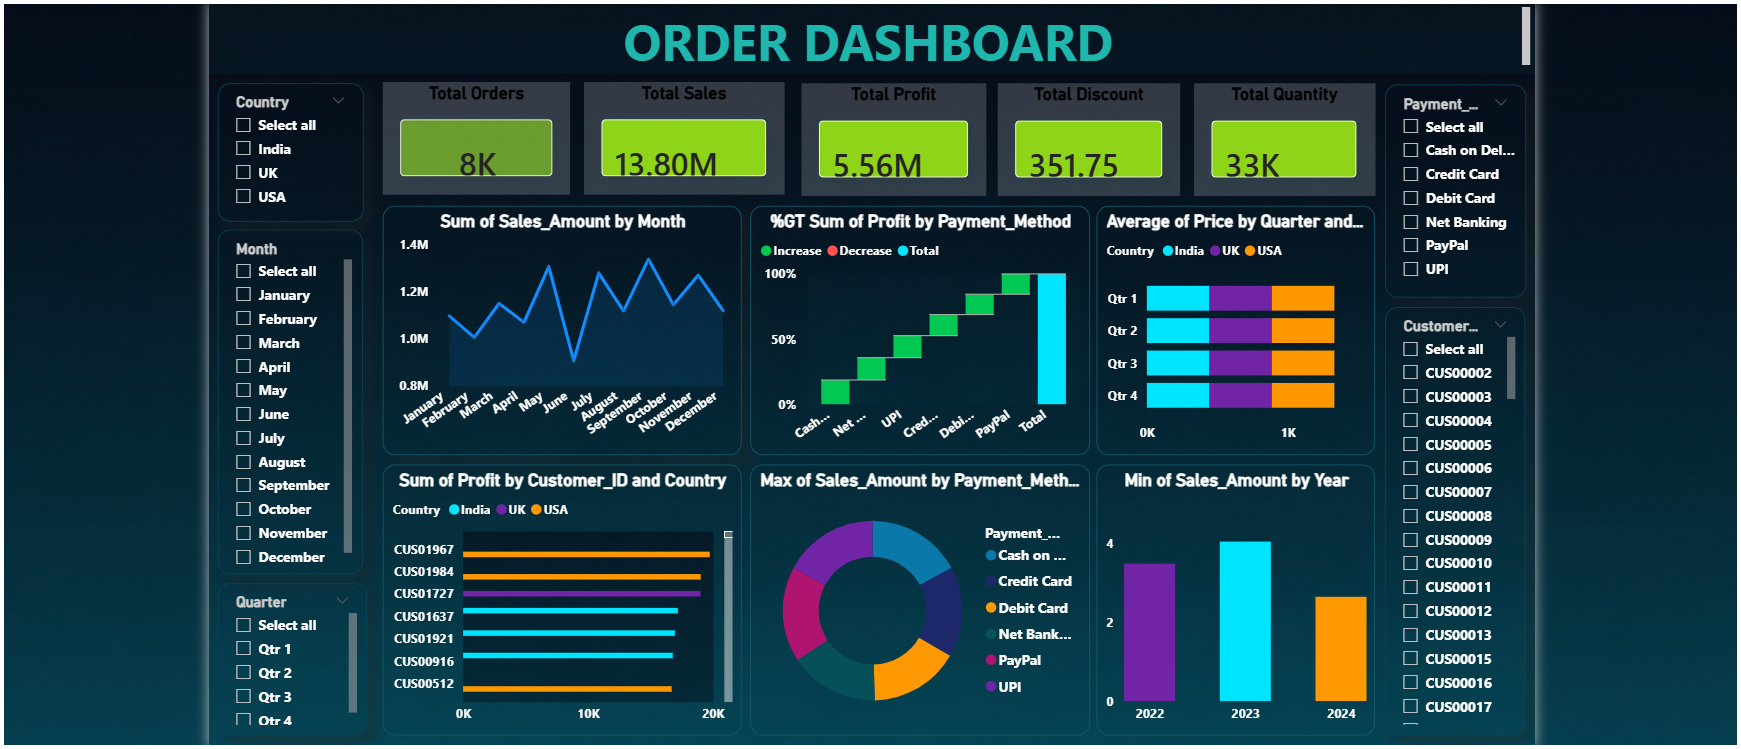

What the dashboard file says about the page in this screenshot:
{"tool":"powerbi","page":{"name":"Order Dashboard","canvas":[1280,720],"ordinal":1},"visuals":[{"type":"cardVisual","title":"Total Orders","fields":{"Data":["Count(Orders.Order_ID)"]},"box":[167.8,77.8,181.1,108.9],"z":0},{"type":"textbox","box":[0,0,1280.3,69.7],"z":1000},{"type":"cardVisual","title":"Total Sales","fields":{"Data":["Sum(Order_Details.Sales_Amount)"]},"box":[362.2,77.8,193.3,108.9],"z":2000},{"type":"cardVisual","title":"Total Profit","fields":{"Data":["Sum(Order_Details.Profit)"]},"box":[572.2,77.9,178.1,109.1],"z":3000},{"type":"cardVisual","title":"Total Discount","fields":{"Data":["Sum(Order_Details.Discount)"]},"box":[761.8,78.3,176.1,108.8],"z":4000},{"type":"cardVisual","title":"Total Quantity","fields":{"Data":["Sum(Order_Details.Quantity)"]},"box":[950.1,78.3,174.9,108.8],"z":5000},{"type":"lineChart","fields":{"Category":["Orders.Order_Date.Variation.Date Hierarchy.Month"],"Y":["Sum(Order_Details.Sales_Amount)"]},"box":[167.4,196.5,346.5,240.7],"z":6000},{"type":"waterfallChart","fields":{"Category":["Orders.Payment_Method"],"Y":["Sum(Order_Details.Profit)"]},"box":[522.1,196.9,327.7,240.9],"z":7000},{"type":"clusteredBarChart","fields":{"Category":["Orders.Customer_ID"],"Y":["Sum(Order_Details.Profit)"],"Series":["Customers.Country"]},"box":[167.5,446.3,346.1,261.7],"z":8000},{"type":"donutChart","fields":{"Y":["Max(Order_Details.Sales_Amount)"],"Series":["Orders.Payment_Method"]},"box":[522.1,446.3,327.7,261.7],"z":9000},{"type":"lineStackedColumnComboChart","fields":{"Category":["Orders.Order_Date.Variation.Date Hierarchy.Year"],"Y":["Min(Order_Details.Sales_Amount)"]},"box":[856,446.3,269,261.7],"z":10000},{"type":"barChart","fields":{"Category":["Orders.Order_Date.Variation.Date Hierarchy.Quarter"],"Y":["Avg(Products.Price)"],"Series":["Customers.Country"]},"box":[856,196.9,269,240.9],"z":11000},{"type":"slicer","fields":{"Values":["Orders.Order_Date.Variation.Date Hierarchy.Month"]},"box":[9,219.8,139.8,332.5],"z":12000},{"type":"slicer","fields":{"Values":["Orders.Payment_Method"]},"box":[1134.8,79.5,135.7,205.4],"z":13000},{"type":"slicer","fields":{"Values":["Orders.Customer_ID"]},"box":[1135,294.2,135.3,413.7],"z":14000},{"type":"slicer","fields":{"Values":["Customers.Country"]},"box":[8.6,78.3,140.6,133.3],"z":15000},{"type":"slicer","fields":{"Values":["Orders.Order_Date.Variation.Date Hierarchy.Quarter"]},"box":[8.6,561.3,144.3,146.7],"z":16000}]}

Visuals, with their boxes on the page's 1280x720 design canvas (x1, y1, x2, y2). These are canvas units, not pixel positions in the 1741x749 screenshot, which may show the page scaled, cropped or inside an application window:
"Total Orders" cardVisual: {"x1": 168, "y1": 78, "x2": 349, "y2": 187}
textbox: {"x1": 0, "y1": 0, "x2": 1280, "y2": 70}
"Total Sales" cardVisual: {"x1": 362, "y1": 78, "x2": 556, "y2": 187}
"Total Profit" cardVisual: {"x1": 572, "y1": 78, "x2": 750, "y2": 187}
"Total Discount" cardVisual: {"x1": 762, "y1": 78, "x2": 938, "y2": 187}
"Total Quantity" cardVisual: {"x1": 950, "y1": 78, "x2": 1125, "y2": 187}
lineChart - Orders.Order_Date.Variation.Date Hierarchy.Month x Sum(Order_Details.Sales_Amount): {"x1": 167, "y1": 196, "x2": 514, "y2": 437}
waterfallChart - Orders.Payment_Method x Sum(Order_Details.Profit): {"x1": 522, "y1": 197, "x2": 850, "y2": 438}
clusteredBarChart - Orders.Customer_ID x Sum(Order_Details.Profit): {"x1": 168, "y1": 446, "x2": 514, "y2": 708}
donutChart - Max(Order_Details.Sales_Amount) x Orders.Payment_Method: {"x1": 522, "y1": 446, "x2": 850, "y2": 708}
lineStackedColumnComboChart - Orders.Order_Date.Variation.Date Hierarchy.Year x Min(Order_Details.Sales_Amount): {"x1": 856, "y1": 446, "x2": 1125, "y2": 708}
barChart - Orders.Order_Date.Variation.Date Hierarchy.Quarter x Avg(Products.Price): {"x1": 856, "y1": 197, "x2": 1125, "y2": 438}
slicer - Orders.Order_Date.Variation.Date Hierarchy.Month: {"x1": 9, "y1": 220, "x2": 149, "y2": 552}
slicer - Orders.Payment_Method: {"x1": 1135, "y1": 80, "x2": 1270, "y2": 285}
slicer - Orders.Customer_ID: {"x1": 1135, "y1": 294, "x2": 1270, "y2": 708}
slicer - Customers.Country: {"x1": 9, "y1": 78, "x2": 149, "y2": 212}
slicer - Orders.Order_Date.Variation.Date Hierarchy.Quarter: {"x1": 9, "y1": 561, "x2": 153, "y2": 708}
